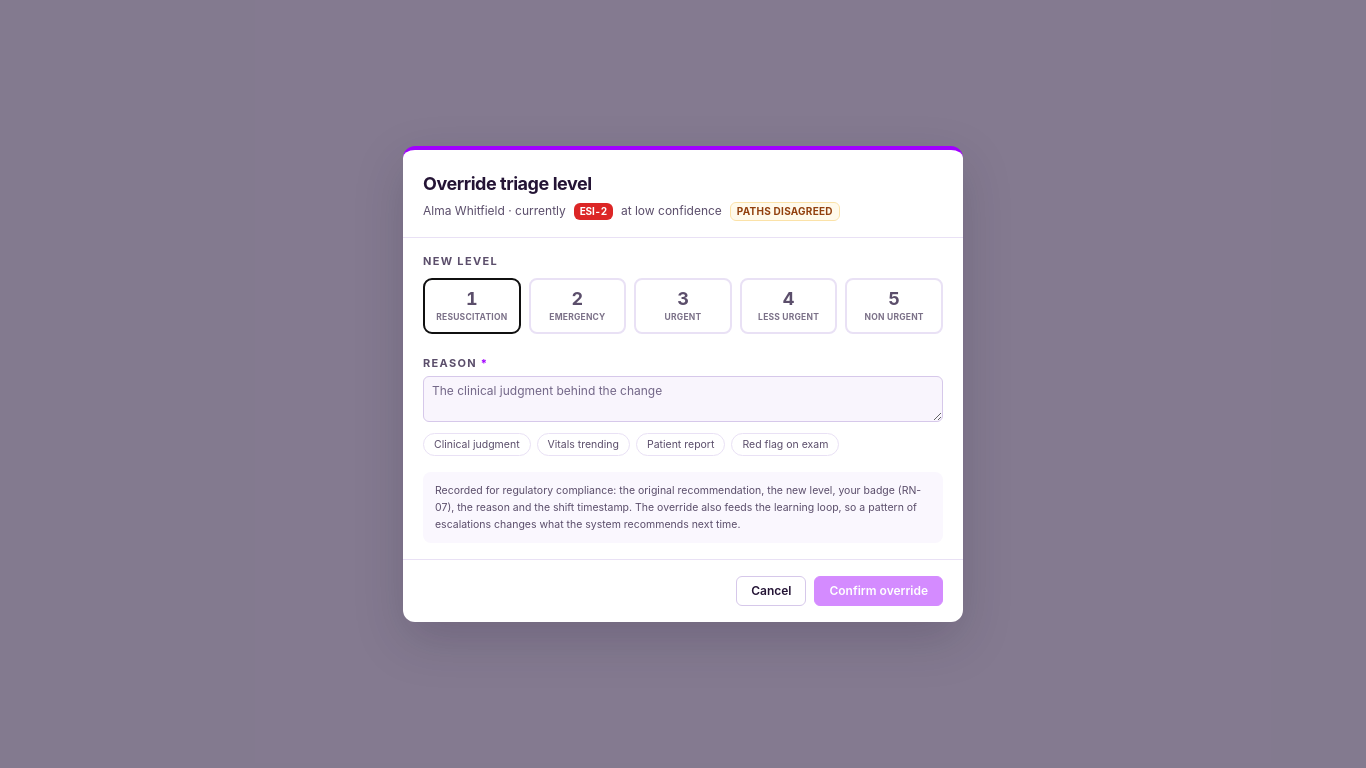
Test: a high-risk downgrade › re-arms when the level changes after acknowledgment
Step 1. Click the button "4 Less urgent" → click(789, 306), box [740,278,837,334]
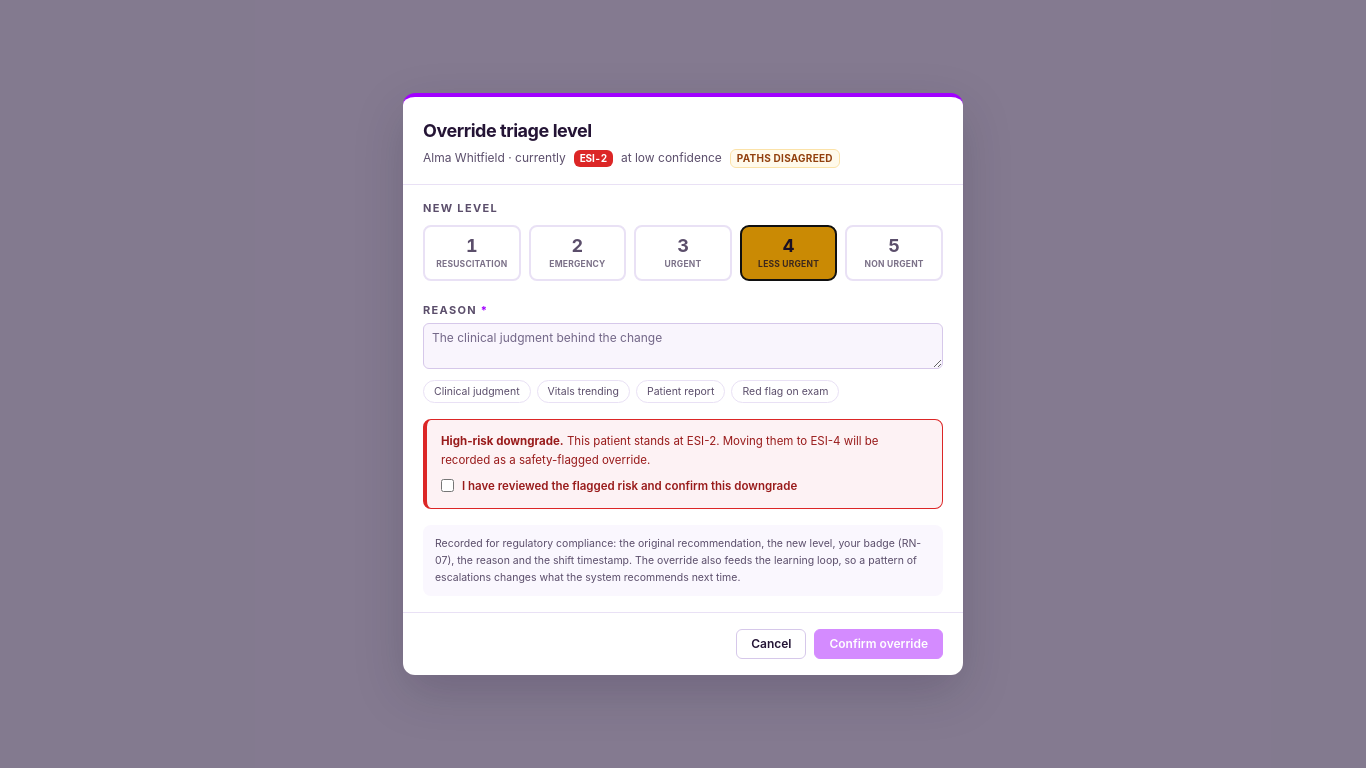
Step 2. Type "Reassessed at the bedside" into the text box → (683, 346), box [423,323,943,369]
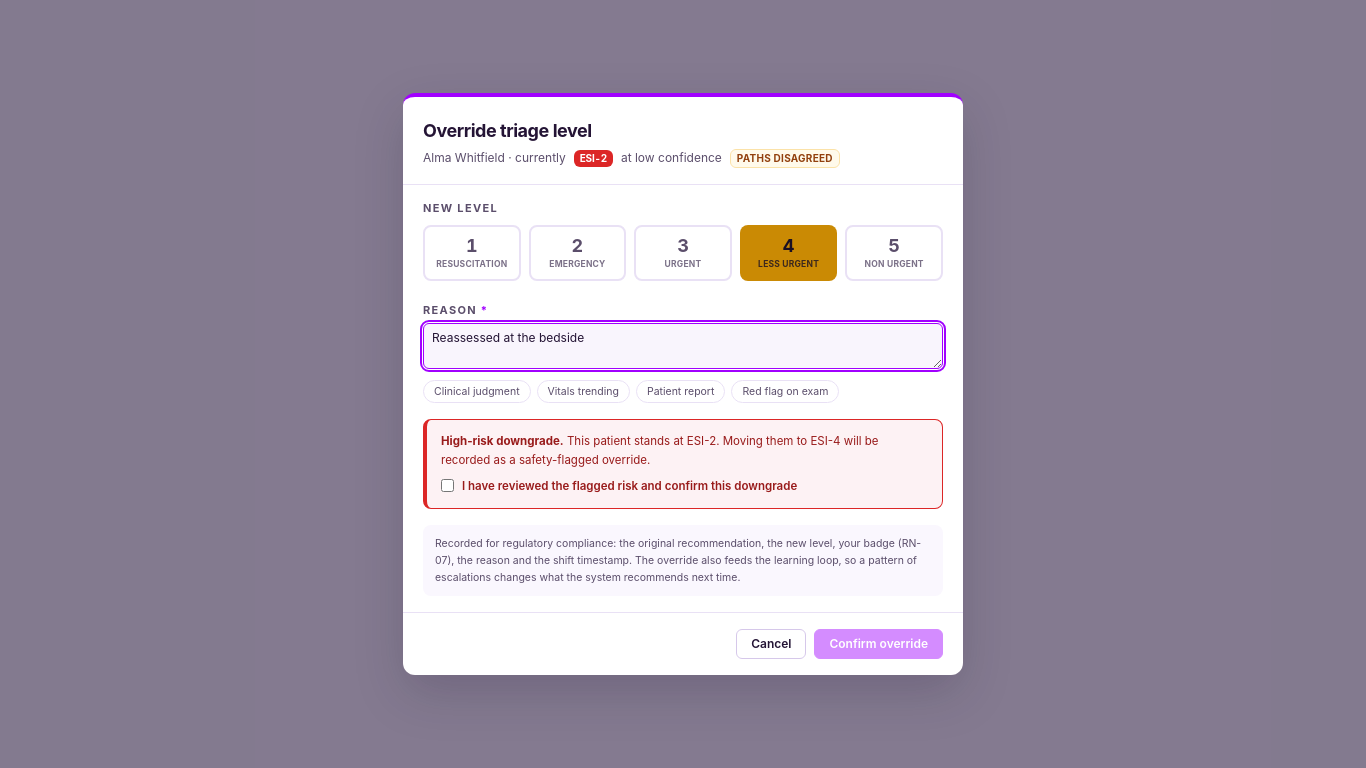
Step 3. Click the checkbox → click(448, 486), box [441,479,454,492]
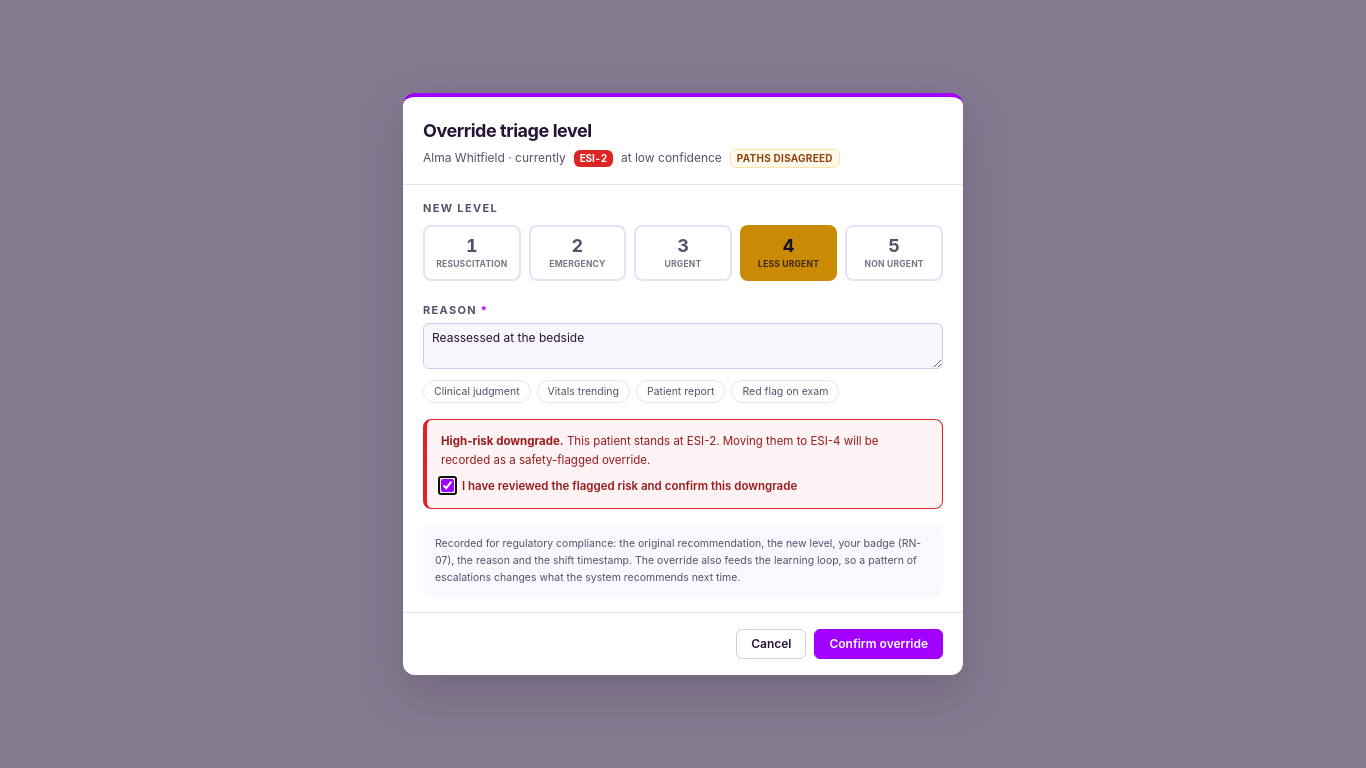
Check: the button "Confirm override" is enabled, box [814,629,943,659]
Step 4. Click the button "5 Non urgent" → click(894, 253), box [845,225,943,281]
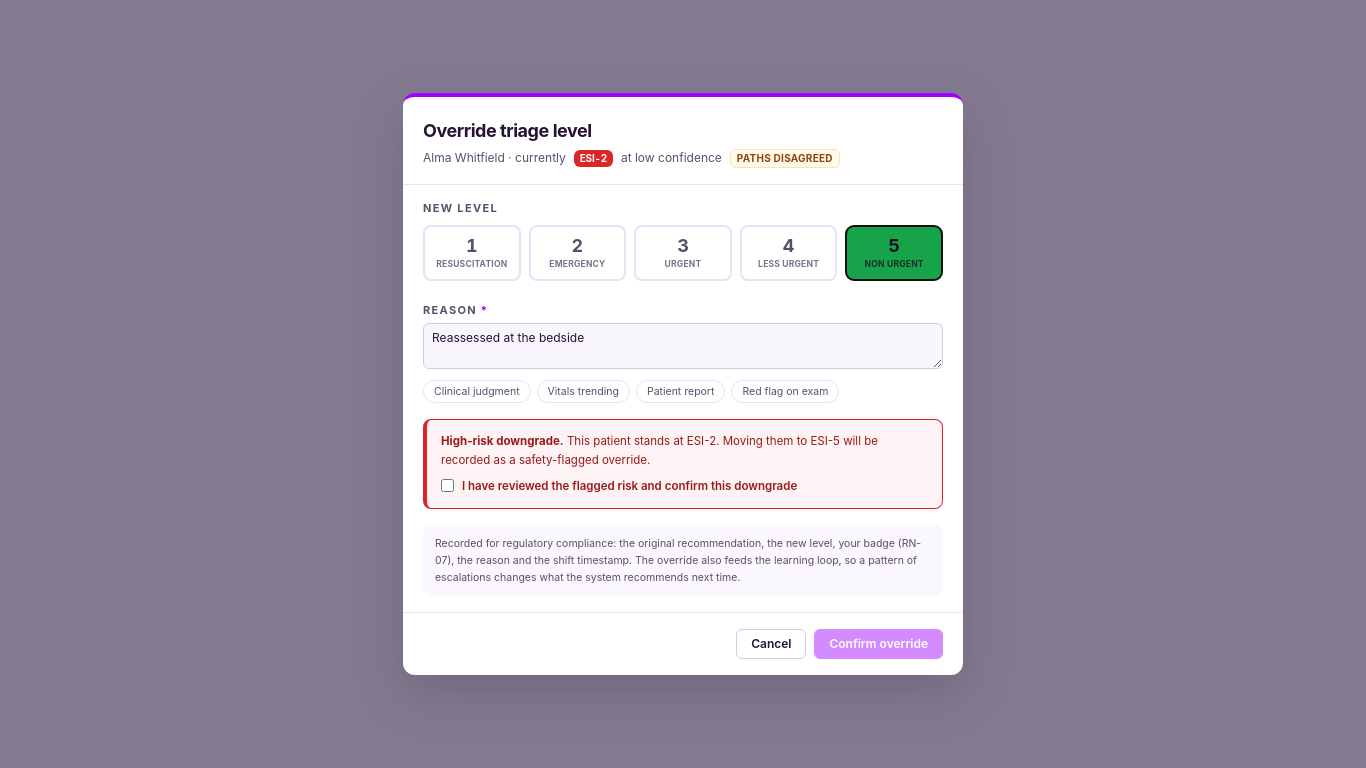
Check: the checkbox is not checked, box [441,479,454,492]
Check: the button "Confirm override" is disabled, box [814,629,943,659]
